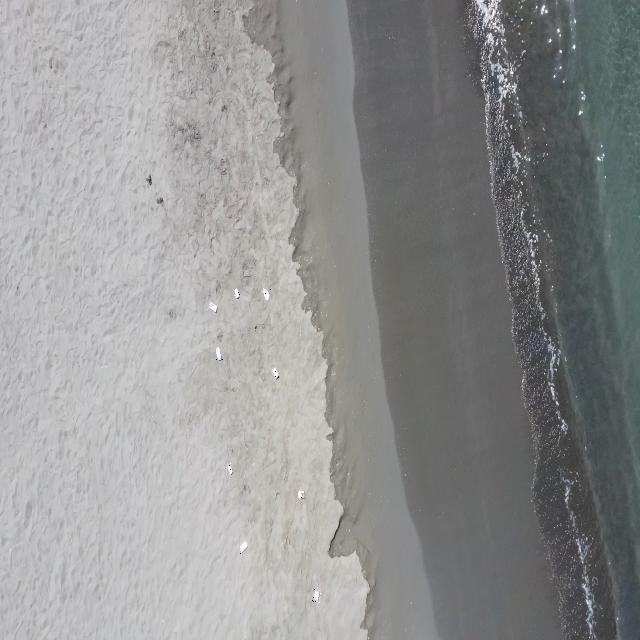retort-pouch: (261, 288, 271, 303), (214, 346, 223, 362), (239, 540, 249, 554), (209, 300, 218, 314), (312, 589, 321, 603), (272, 366, 280, 381), (227, 463, 234, 476), (234, 286, 240, 300), (296, 490, 304, 499)
